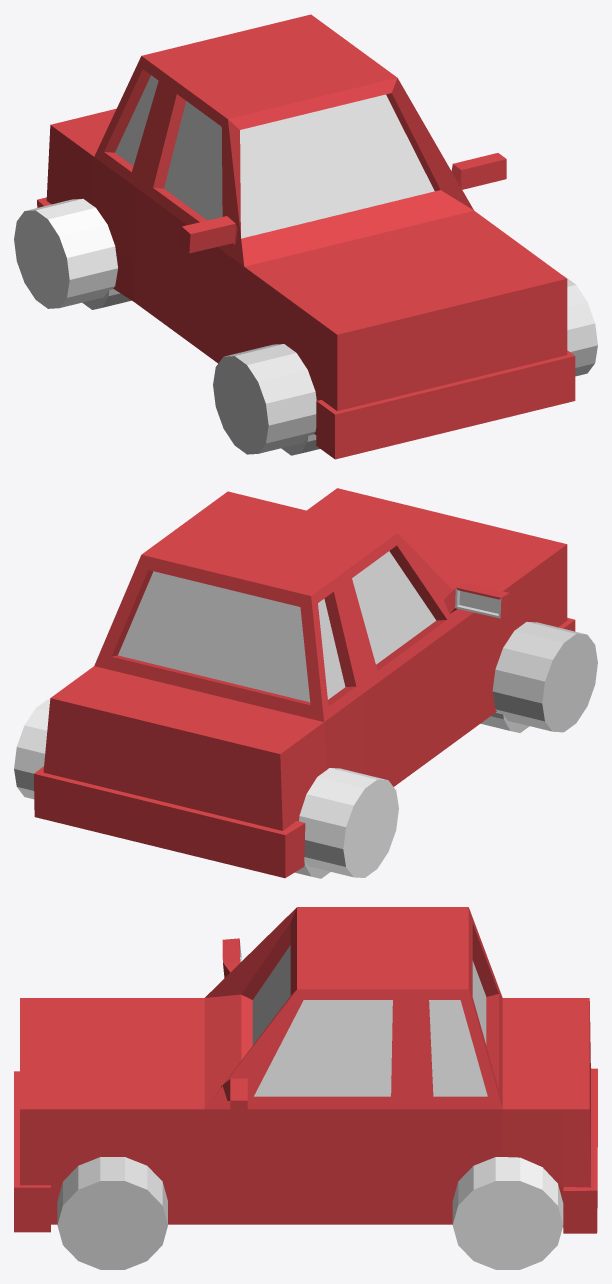
File: Car.fbx
3 renders of one model, top to bottom at view 1: azimuth 30°, elevation 25°; view 2: azimuth 150°, elevation 25°; view 3: azimuth 270°, elevation 25°, orthographic.
Parts seen in each view (by area): view 1: Cube, Cylinder, Cylinder.002; view 2: Cube, Cylinder.002, Cylinder; view 3: Cube, Cylinder, Cylinder.002.
Part boxes in pixels (box(x1,y1,x2,y2)): Cube: box(37, 14, 575, 459); Cylinder: box(213, 275, 597, 454); Cylinder.002: box(14, 198, 117, 308); Cube: box(34, 488, 575, 878); Cylinder.002: box(14, 699, 398, 877); Cylinder: box(492, 622, 597, 732); Cube: box(14, 907, 597, 1233); Cylinder: box(57, 1157, 167, 1269); Cylinder.002: box(452, 1157, 563, 1269).
Size of the model in its own units: 286 by 213 by 443.
